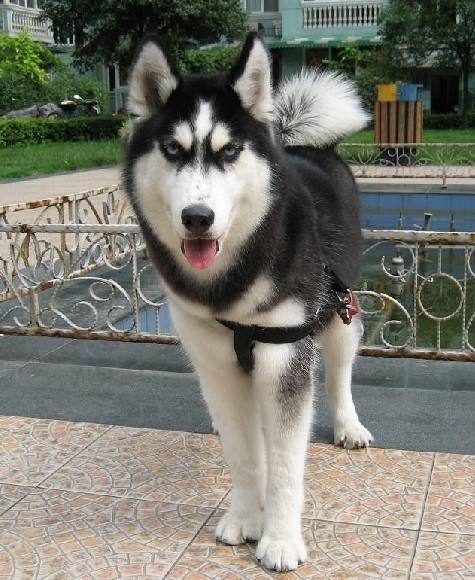dog: (125, 30, 376, 572)
